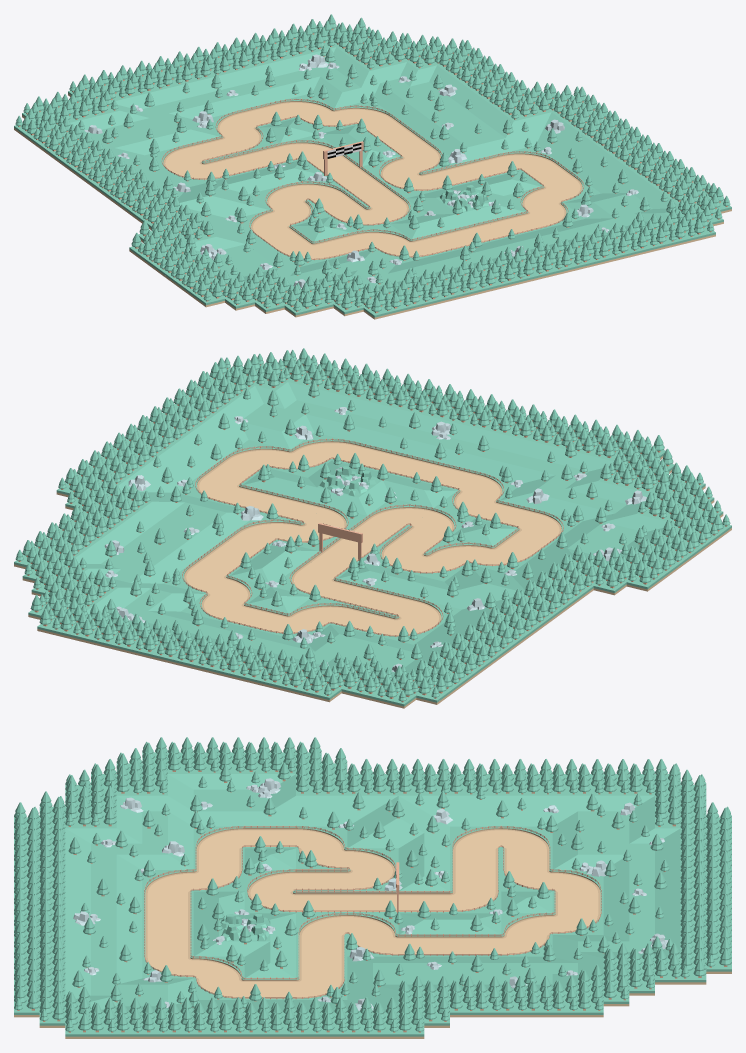
The model's file is map_new-transformed.glb.
The picture shows the model from 3 angles, top to bottom: view 1: azimuth 30°, elevation 25°; view 2: azimuth 150°, elevation 25°; view 3: azimuth 270°, elevation 25°; orthographic projection. The views are drawn at different scales.
Parts seen in each view (by area): view 1: tile_wideCorner.005, tile_wideCorner.016, tile_wideCorner.020, tile_wideCorner.009, tile_wideCorner.011, tile_wideCorner.007, tile_wideCorner.002, tile_wideCorner.013, tile_wideCorner.019, tile_wideCorner.022, tile_wideCorner.003, tile_wideCorner.012 (+12 smaller); view 2: tile_wideCorner.012, tile_wideCorner.003, tile_wideCorner.017, tile_wideCorner.014, tile_wideCorner.021, tile_wideCorner.008, tile_wideCorner.006, tile_wideCorner.001, tile_wideCorner.023, tile_wideCorner.015, tile_wideCorner.007, tile_wideCorner.018 (+13 smaller); view 3: tile_wideCorner.006, tile_wideCorner.001, tile_wideCorner.020, tile_wideCorner.022, tile_wideCorner.010, tile_wideCorner.002, tile_wideCorner.023, tile_wideCorner.009, tile_wideCorner.013, tile_wideCorner.018, tile_wideCorner.015, tile_wideCorner.004 (+45 smaller).
Boxes of the visible parts, bbox=[...] form: tile_wideCorner.005: bbox=[275, 94, 333, 117]; tile_wideCorner.016: bbox=[352, 224, 411, 248]; tile_wideCorner.020: bbox=[248, 185, 307, 210]; tile_wideCorner.009: bbox=[362, 157, 421, 182]; tile_wideCorner.011: bbox=[499, 145, 556, 170]; tile_wideCorner.007: bbox=[334, 100, 393, 124]; tile_wideCorner.002: bbox=[145, 146, 203, 171]; tile_wideCorner.013: bbox=[504, 187, 562, 212]; tile_wideCorner.019: bbox=[287, 175, 345, 200]; tile_wideCorner.022: bbox=[236, 210, 291, 235]; tile_wideCorner.003: bbox=[220, 127, 279, 152]; tile_wideCorner.012: bbox=[542, 177, 600, 202]; tile_wideCorner.012: bbox=[224, 440, 289, 467]; tile_wideCorner.003: bbox=[289, 598, 352, 624]; tile_wideCorner.017: bbox=[367, 499, 431, 525]; tile_wideCorner.014: bbox=[291, 432, 355, 460]; tile_wideCorner.021: bbox=[427, 537, 492, 563]; tile_wideCorner.008: bbox=[236, 513, 299, 540]; tile_wideCorner.006: bbox=[205, 576, 269, 604]; tile_wideCorner.001: bbox=[397, 599, 461, 627]; tile_wideCorner.023: bbox=[517, 511, 581, 538]; tile_wideCorner.015: bbox=[457, 473, 521, 501]; tile_wideCorner.007: bbox=[163, 566, 227, 593]; tile_wideCorner.018: bbox=[411, 508, 474, 535]; tile_wideCorner.006: bbox=[501, 913, 552, 936]; tile_wideCorner.001: bbox=[450, 826, 501, 849]; tile_wideCorner.020: bbox=[347, 848, 398, 871]; tile_wideCorner.022: bbox=[296, 826, 347, 849]; tile_wideCorner.010: bbox=[296, 913, 347, 936]; tile_wideCorner.002: bbox=[501, 826, 552, 849]; tile_wideCorner.023: bbox=[193, 826, 244, 849]; tile_wideCorner.009: bbox=[347, 913, 398, 936]; tile_wideCorner.013: bbox=[193, 956, 244, 979]; tile_wideCorner.018: bbox=[244, 870, 295, 892]; tile_wideCorner.015: bbox=[142, 870, 193, 892]; tile_wideCorner.004: bbox=[552, 870, 603, 892].
Bounding box in the file's own units: 26 × 3.45 × 28.
